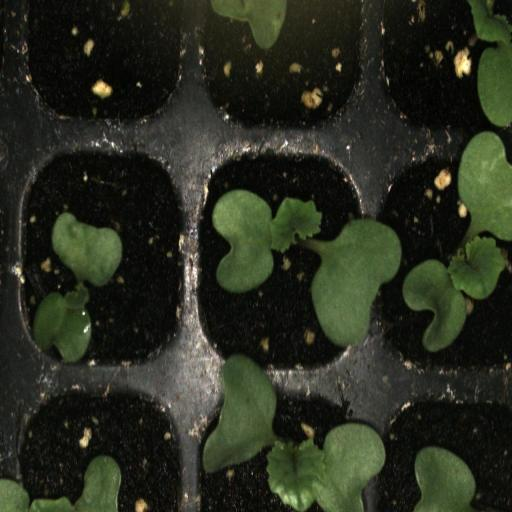Folha: (0, 455, 122, 512), (207, 0, 304, 51), (414, 446, 476, 512)
Germinacao: (194, 136, 375, 377), (18, 139, 195, 380), (374, 139, 512, 385), (189, 372, 381, 512)
